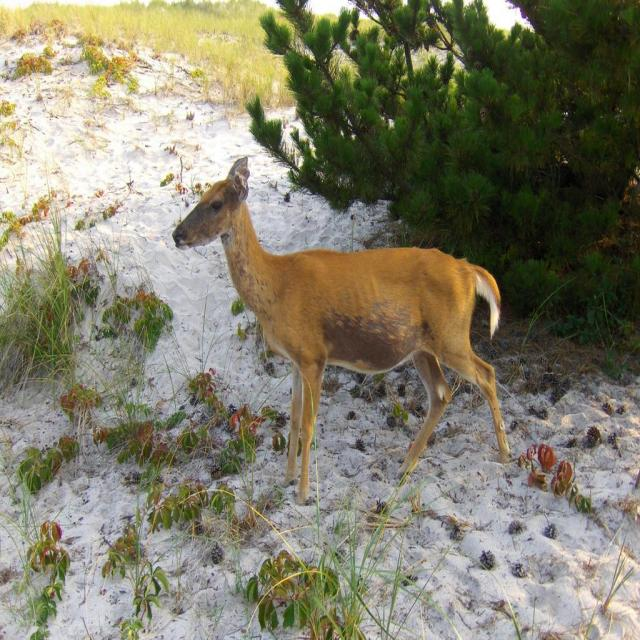Deer: (172, 156, 512, 507)
